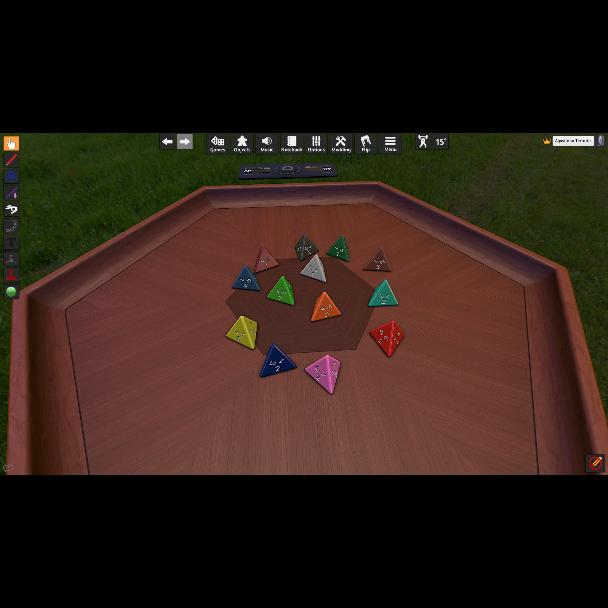d4: (304, 356, 340, 394), (260, 344, 296, 378), (370, 321, 402, 356), (227, 316, 259, 350), (312, 292, 340, 322), (266, 277, 294, 305), (367, 280, 397, 306), (232, 266, 262, 292), (300, 255, 326, 283), (253, 246, 278, 274), (363, 248, 391, 272), (296, 234, 318, 262), (327, 236, 350, 262)
